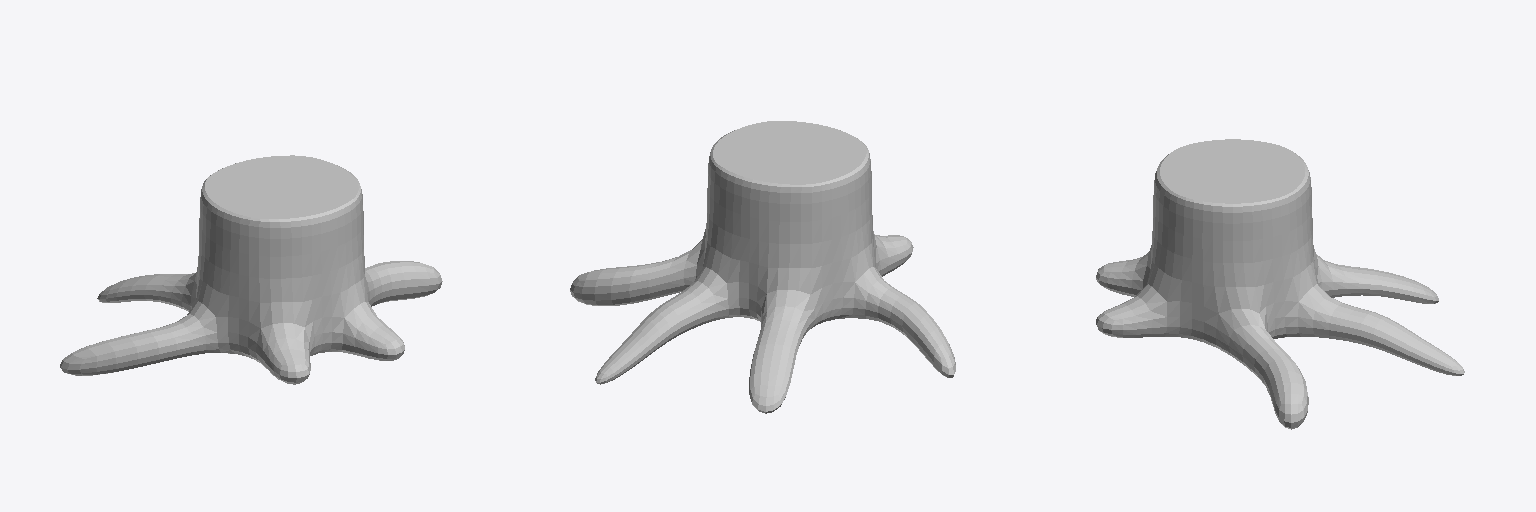
Rendered from TreeStump.OBJ.
3 views of the same model, side by side, from view 1: azimuth 30°, elevation 25°; view 2: azimuth 150°, elevation 25°; view 3: azimuth 270°, elevation 25° (orthographic).
Parts seen in each view (by area): view 1: Group2; view 2: Group2; view 3: Group2.
Part boxes in pixels (left/top/right/bottom): Group2: left=60, top=155, right=442, bottom=384; Group2: left=570, top=121, right=955, bottom=413; Group2: left=1096, top=139, right=1464, bottom=429.
Size of the model in its own units: 289 by 124 by 242.